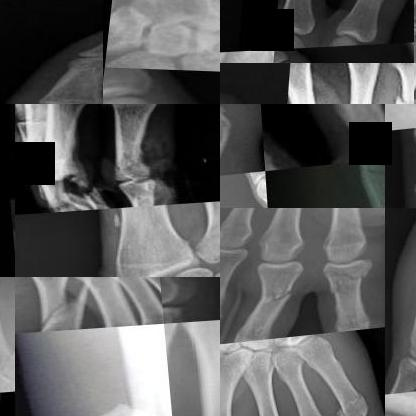fracture: (15, 277, 99, 334), (45, 161, 104, 214), (316, 264, 373, 307), (243, 280, 303, 318), (63, 395, 171, 415), (346, 160, 384, 204), (333, 394, 370, 415), (382, 87, 414, 103)
